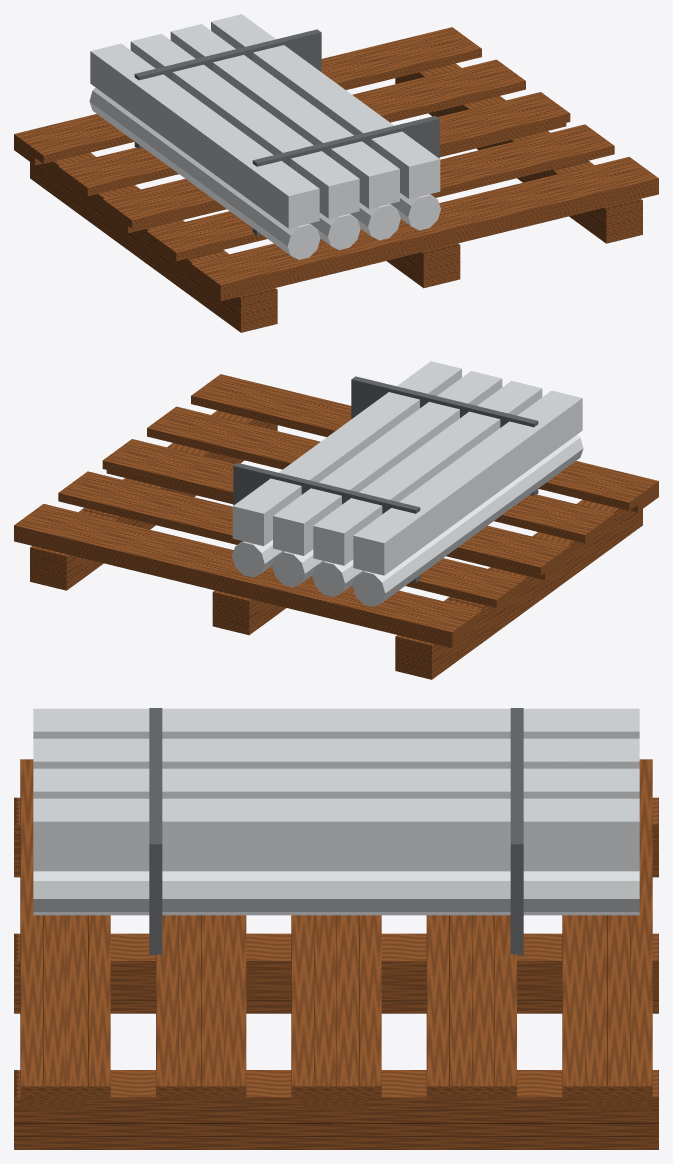
The model's file is pallet-of-steel-bar-stock.glb.
The picture shows the model from 3 angles, top to bottom: view 1: azimuth 30°, elevation 25°; view 2: azimuth 150°, elevation 25°; view 3: azimuth 270°, elevation 25°; orthographic projection. The views are drawn at different scales.
Parts seen in each view (by area): view 1: machine-shop-and-factory-hall-pallet-steel-stock; view 2: machine-shop-and-factory-hall-pallet-steel-stock; view 3: machine-shop-and-factory-hall-pallet-steel-stock.
Boxes of the visible parts, x1,y1,x2,y2 form: machine-shop-and-factory-hall-pallet-steel-stock: (14,14,658,332); machine-shop-and-factory-hall-pallet-steel-stock: (14,361,658,679); machine-shop-and-factory-hall-pallet-steel-stock: (14,708,658,1149).
Size of the model in its own units: 1.2 by 0.32 by 1.
Materials: 3 (1 with a texture image).
